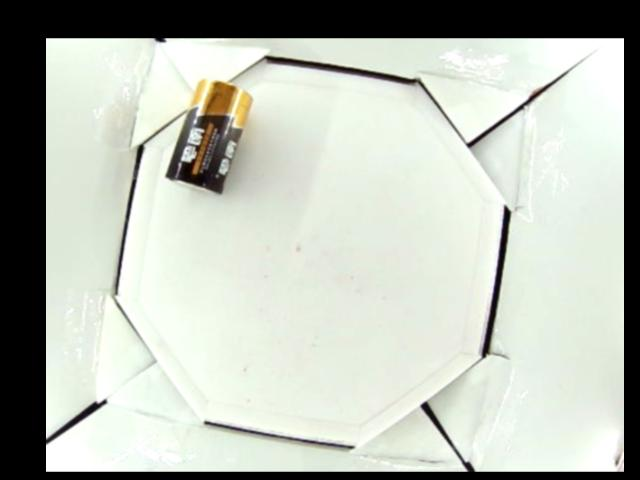Battery: (166, 76, 251, 194)
